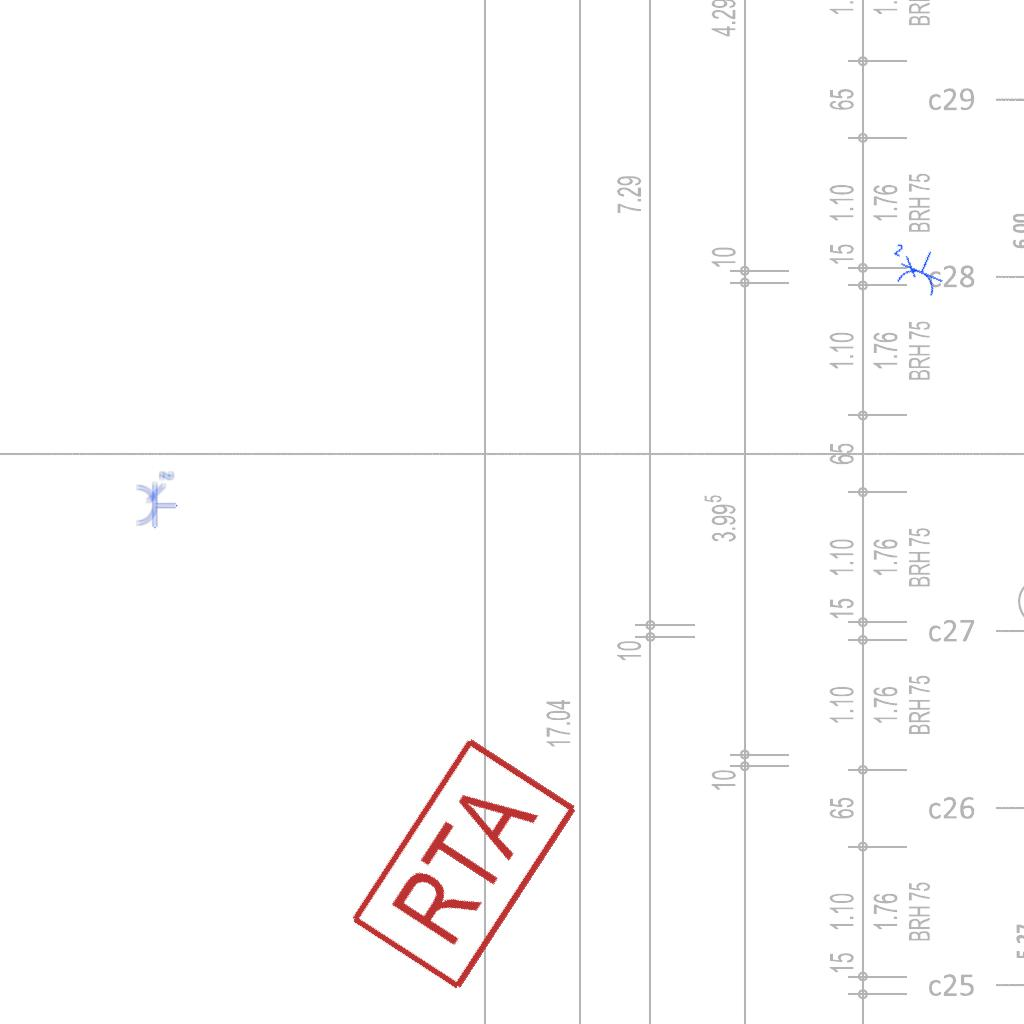Ruf-und_Abstelltaster: (343, 732, 583, 1000)
Schukosteckdose_mehrfach: (879, 237, 953, 301), (134, 469, 178, 529)
